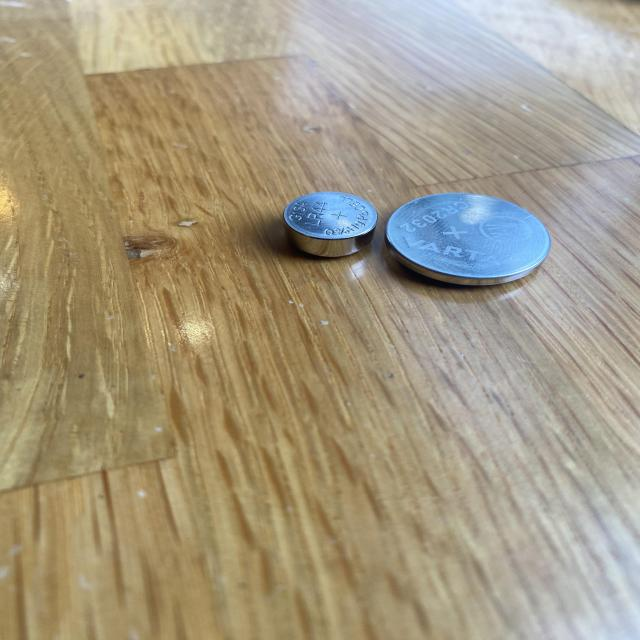COIN: (384, 192, 551, 286), (282, 190, 378, 258)
